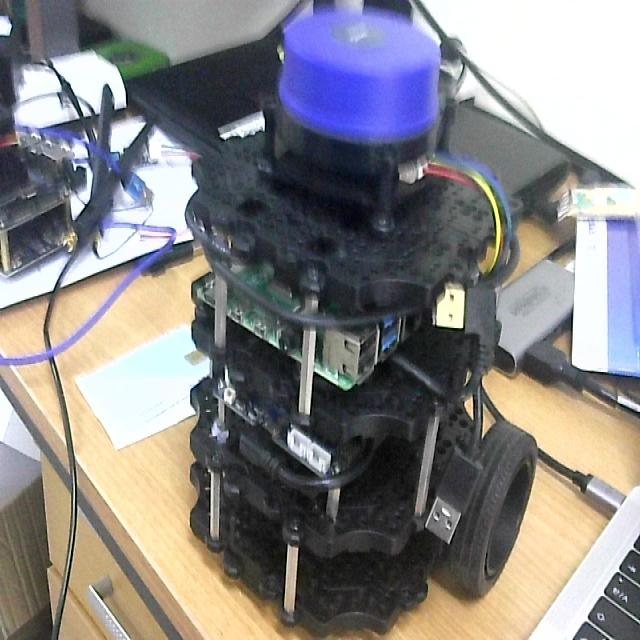turtle: (183, 3, 539, 640)
